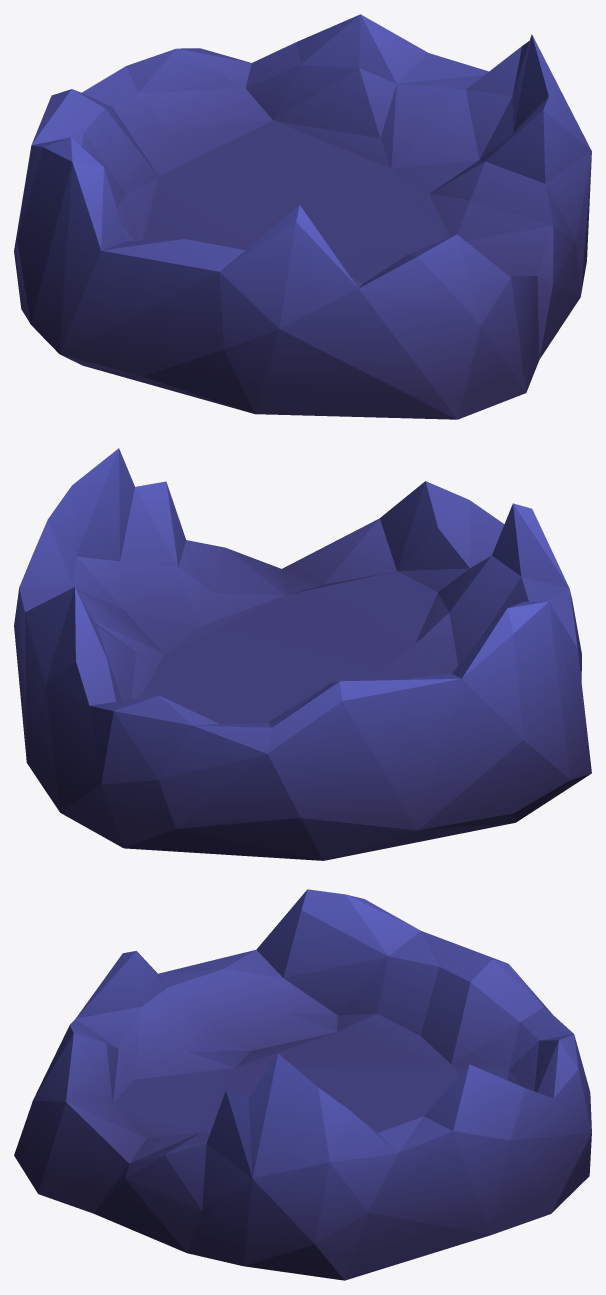
File: Rock_Platform_01.fbx
3 renders of one model, top to bottom at view 1: azimuth 30°, elevation 25°; view 2: azimuth 150°, elevation 25°; view 3: azimuth 270°, elevation 25°, orthographic. The views are drawn at different scales.
Visible parts, largest first — view 1: Merged_PM3D_rocks3.023; view 2: Merged_PM3D_rocks3.023; view 3: Merged_PM3D_rocks3.023.
Part boxes in pixels (box(x1,y1,x2,y2)): Merged_PM3D_rocks3.023: box(14, 14, 591, 419); Merged_PM3D_rocks3.023: box(14, 448, 591, 860); Merged_PM3D_rocks3.023: box(14, 889, 591, 1280).
Bounding box in the file's own units: 1494 × 599 × 1552.
